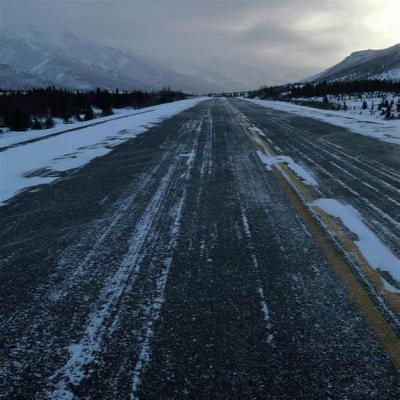iced-road: (1, 99, 400, 400)
